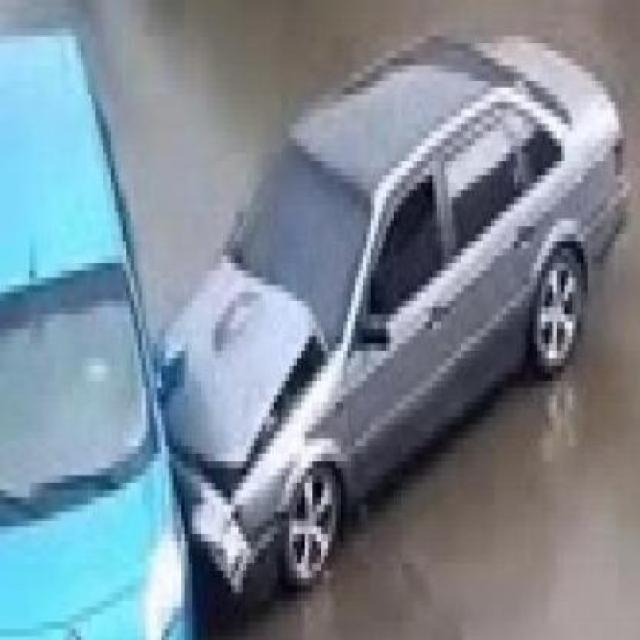accident: (0, 0, 610, 596)
